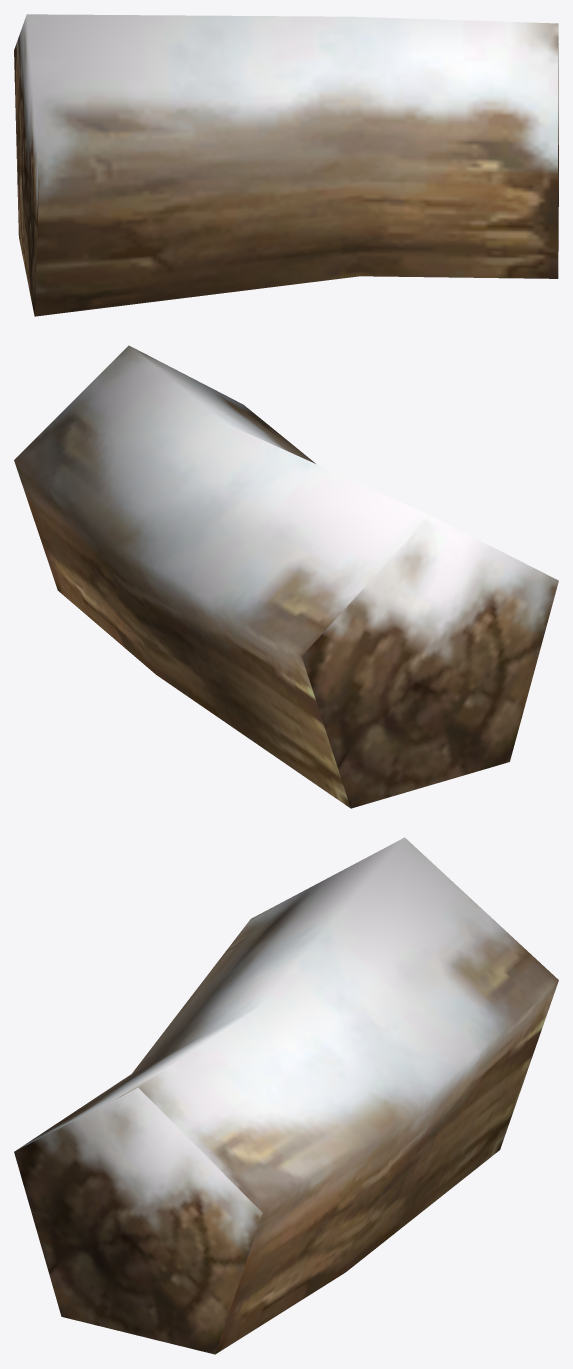
File: SM_Enclosure_01.fbx
3 views of the same model, one above another, from view 1: azimuth 30°, elevation 25°; view 2: azimuth 150°, elevation 25°; view 3: azimuth 270°, elevation 25° (orthographic). The views are drawn at different scales.
Visible parts, largest first — view 1: SM_Enclosure_01; view 2: SM_Enclosure_01; view 3: SM_Enclosure_01.
Part boxes in pixels (box(x1,y1,x2,y2)): SM_Enclosure_01: box(14, 14, 558, 316); SM_Enclosure_01: box(14, 345, 558, 808); SM_Enclosure_01: box(14, 837, 558, 1354).
Bounding box in the file's own units: 1.58 × 0.7575 × 1.27.
